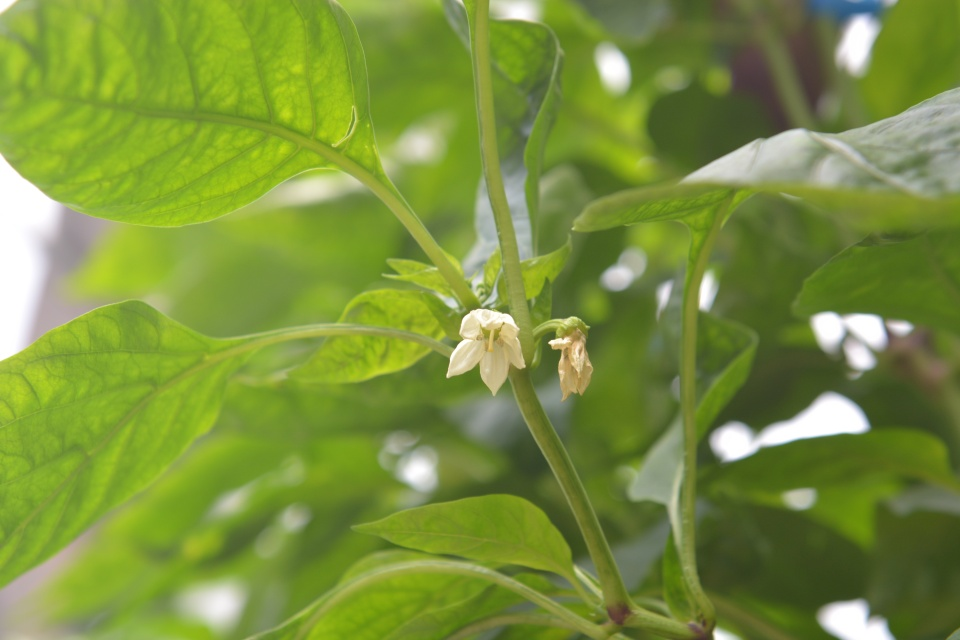flower: (444, 305, 528, 400)
